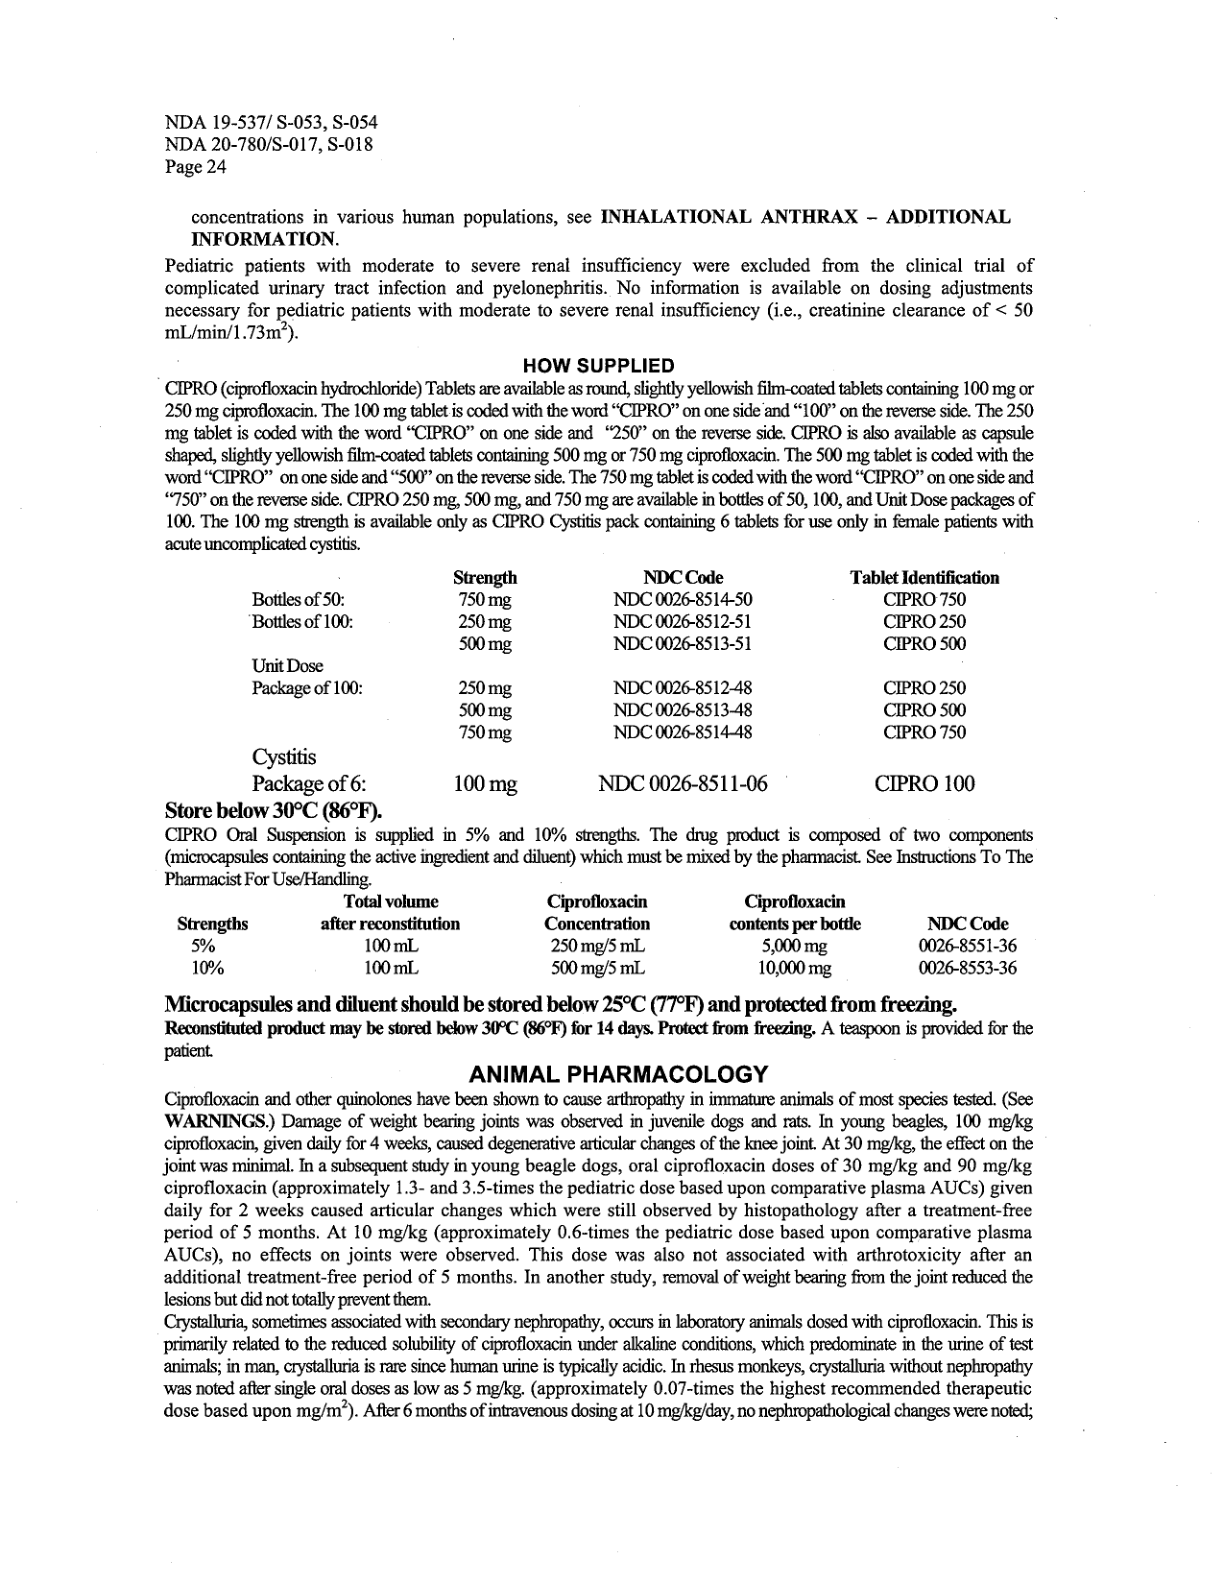nolines: (247, 567, 1002, 795), (175, 894, 1021, 980)
